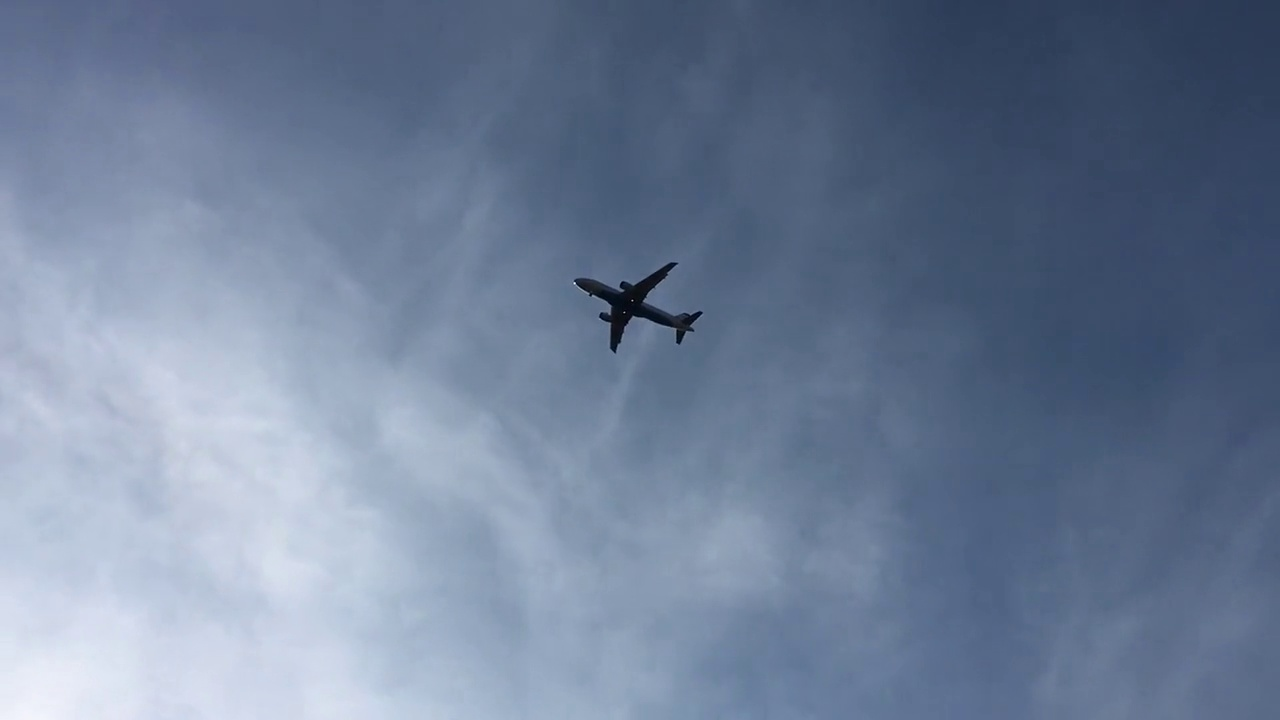plane: (572, 260, 706, 353)
